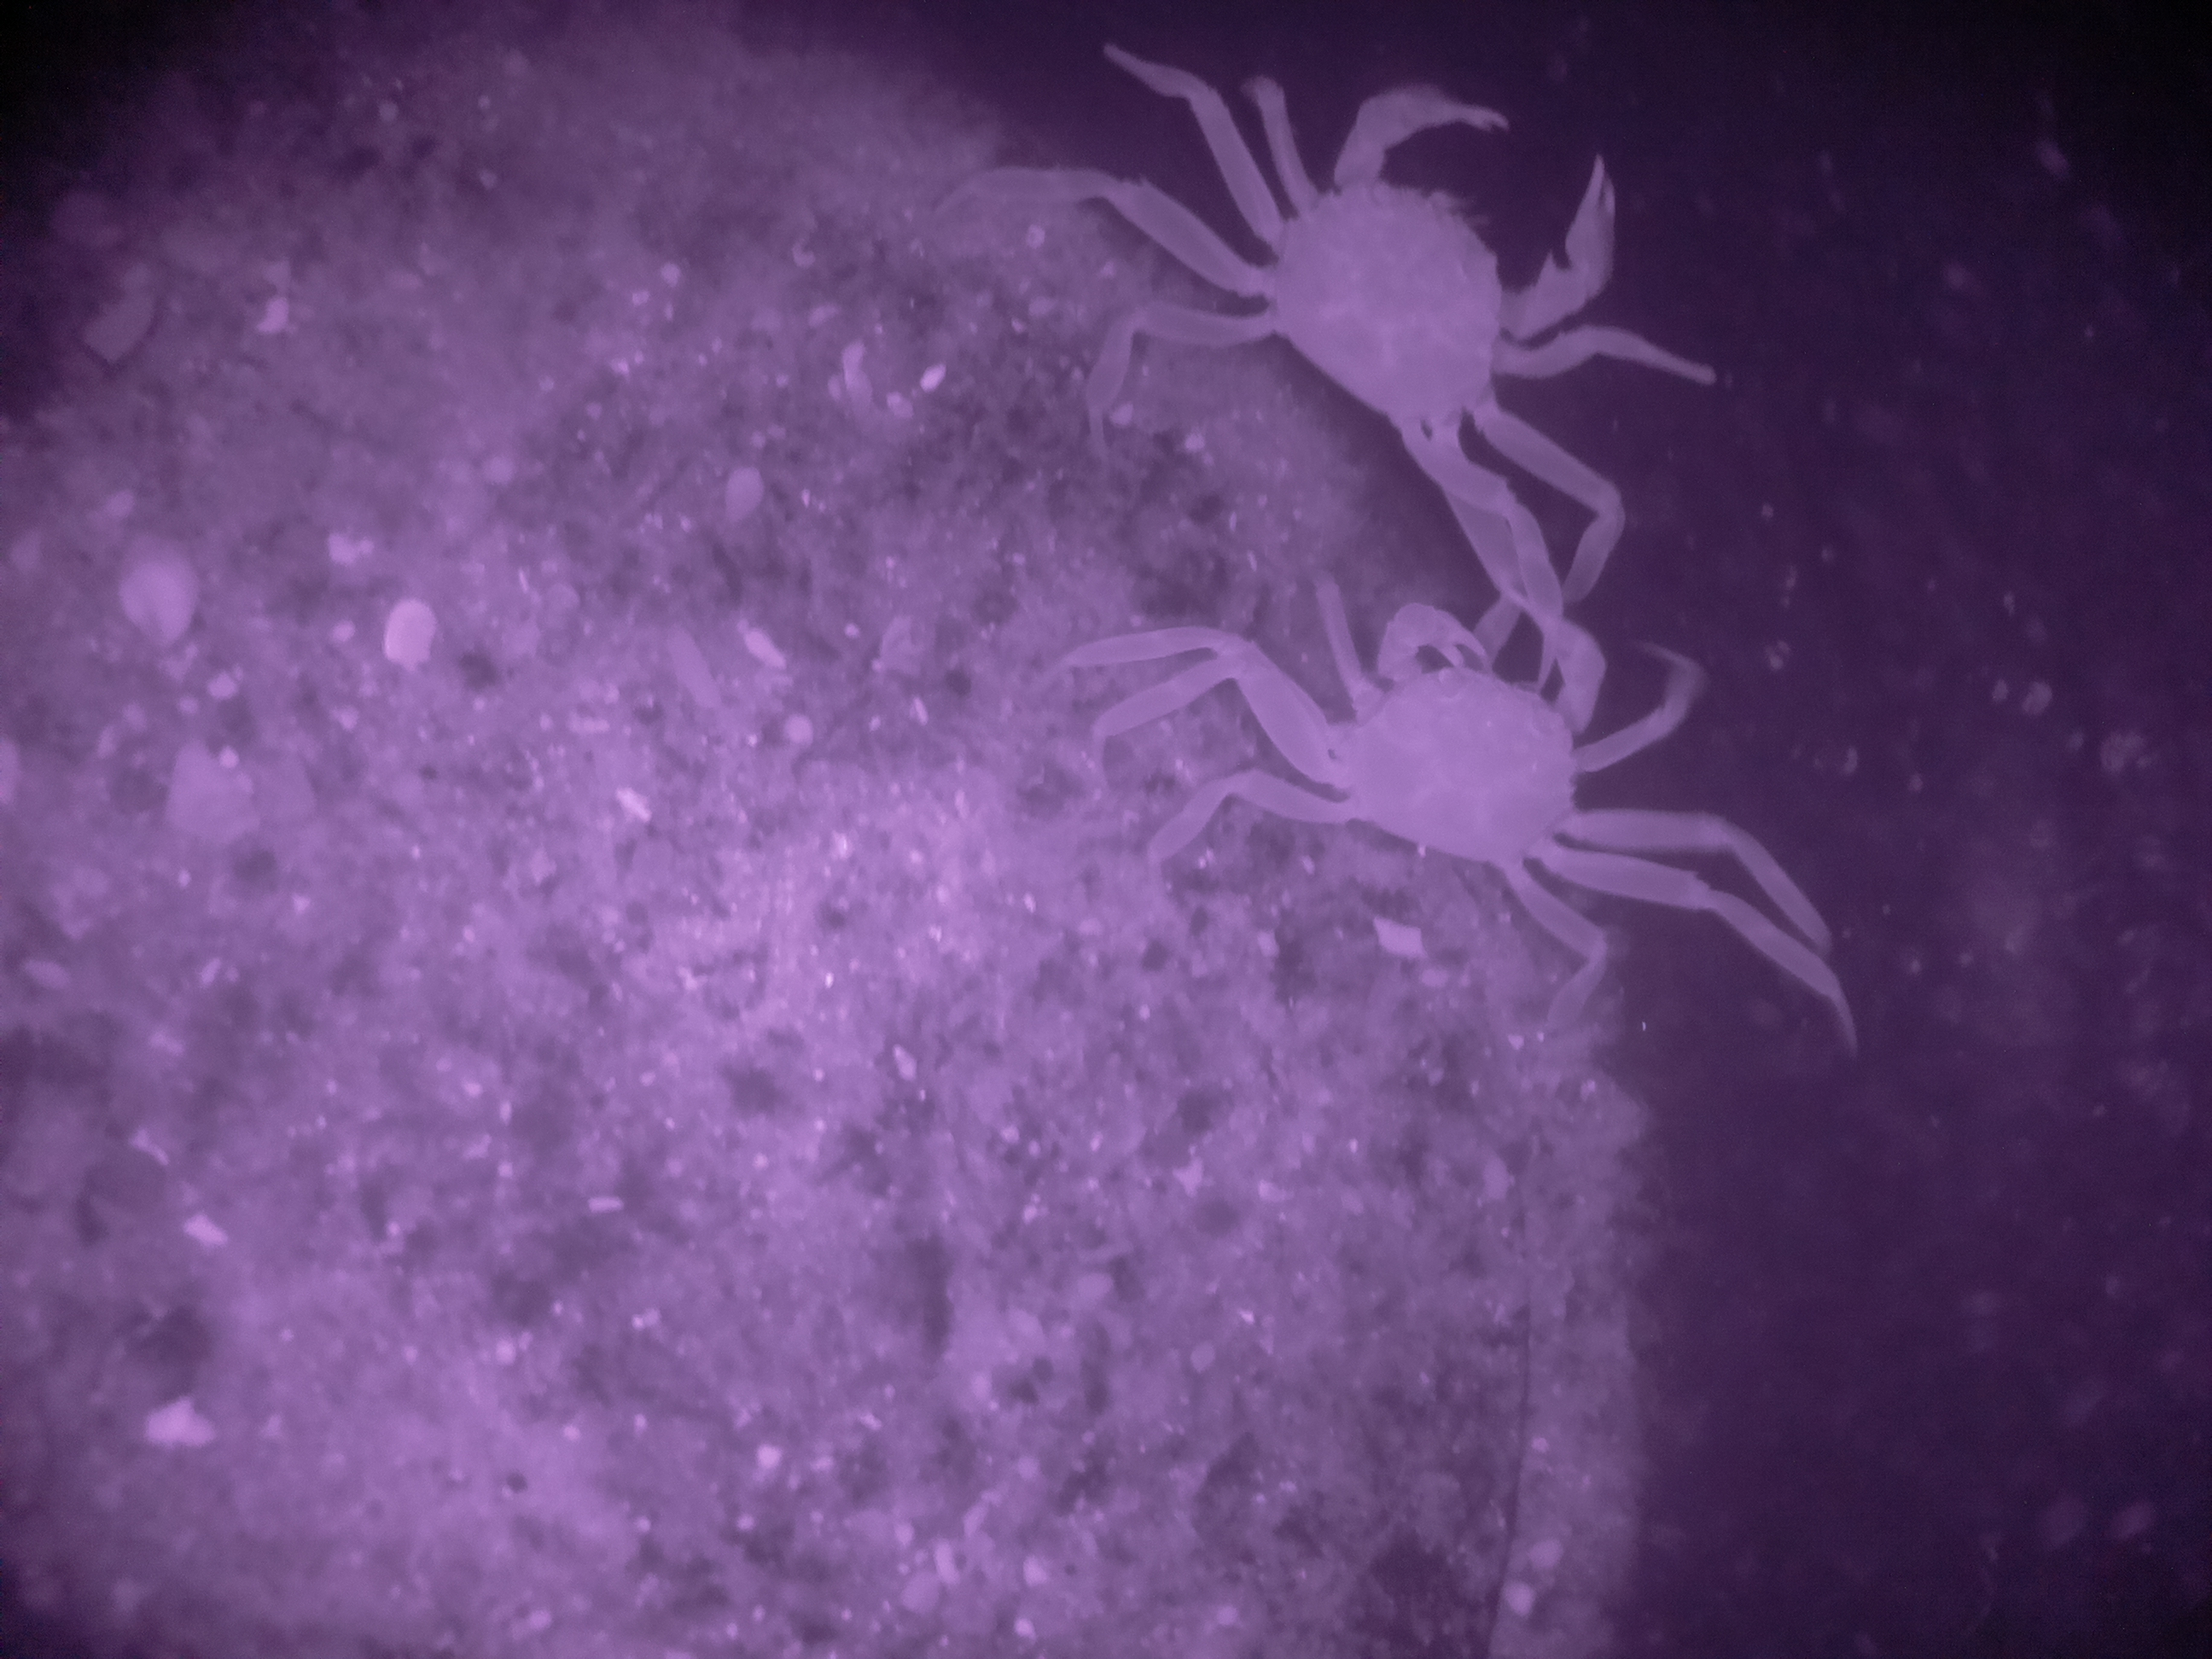Crab: (1181, 35, 1677, 507), (1237, 556, 1745, 915)
